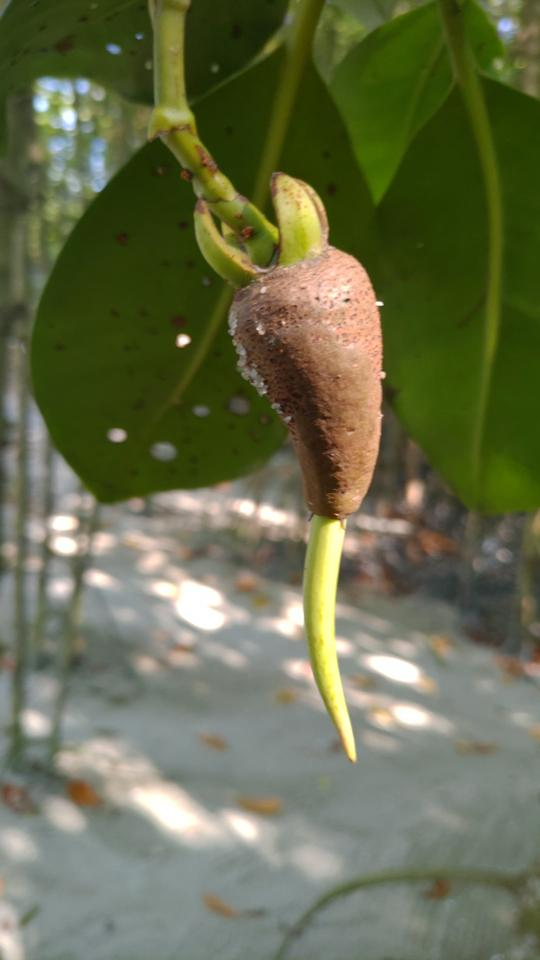mentah: (165, 162, 423, 770)
